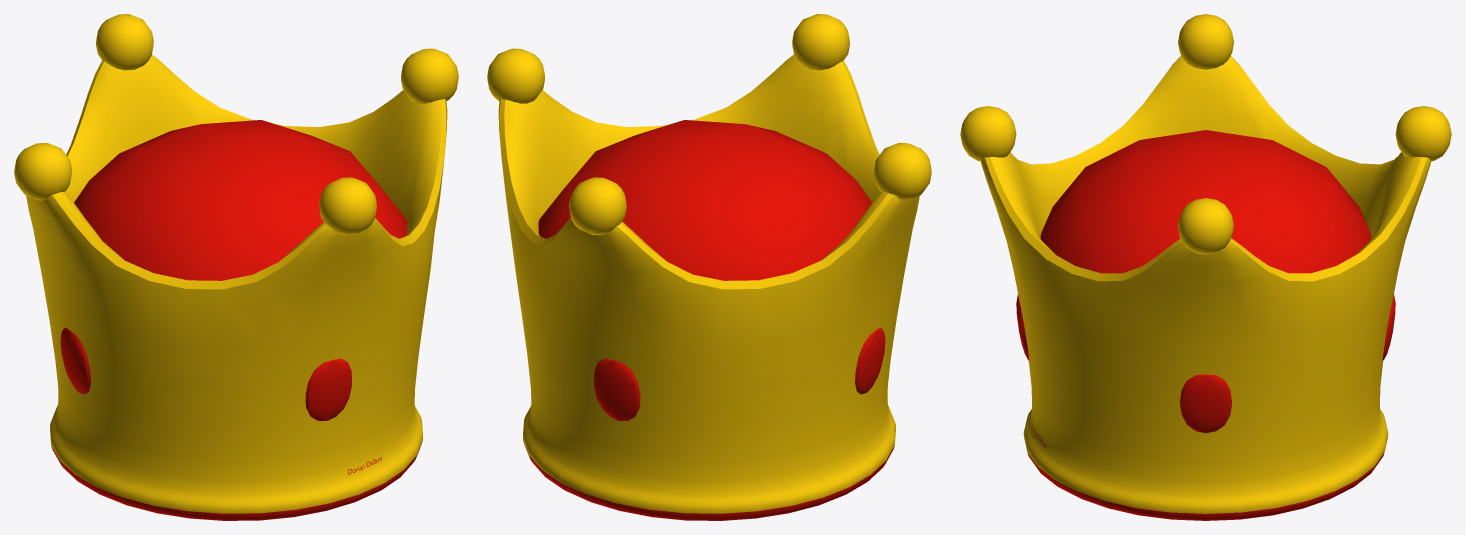
File: Crown.fbx
3 renders of one model, left to right at view 1: azimuth 30°, elevation 25°; view 2: azimuth 150°, elevation 25°; view 3: azimuth 270°, elevation 25°, orthographic. The views are drawn at different scales.
Parts seen in each view (by area): view 1: Body, Intern, Gem; view 2: Body, Intern, Gem; view 3: Body, Intern, Gem.
Part boxes in pixels (left/top/right/bottom): Body: left=14, top=14, right=458, bottom=520; Intern: left=74, top=120, right=407, bottom=280; Gem: left=60, top=327, right=351, bottom=420; Body: left=487, top=14, right=931, bottom=520; Intern: left=538, top=120, right=871, bottom=280; Gem: left=594, top=327, right=885, bottom=420; Body: left=960, top=14, right=1451, bottom=520; Intern: left=1040, top=130, right=1371, bottom=273; Gem: left=1016, top=294, right=1395, bottom=433.
Bounding box in the file's own units: 220 × 168 × 220.
